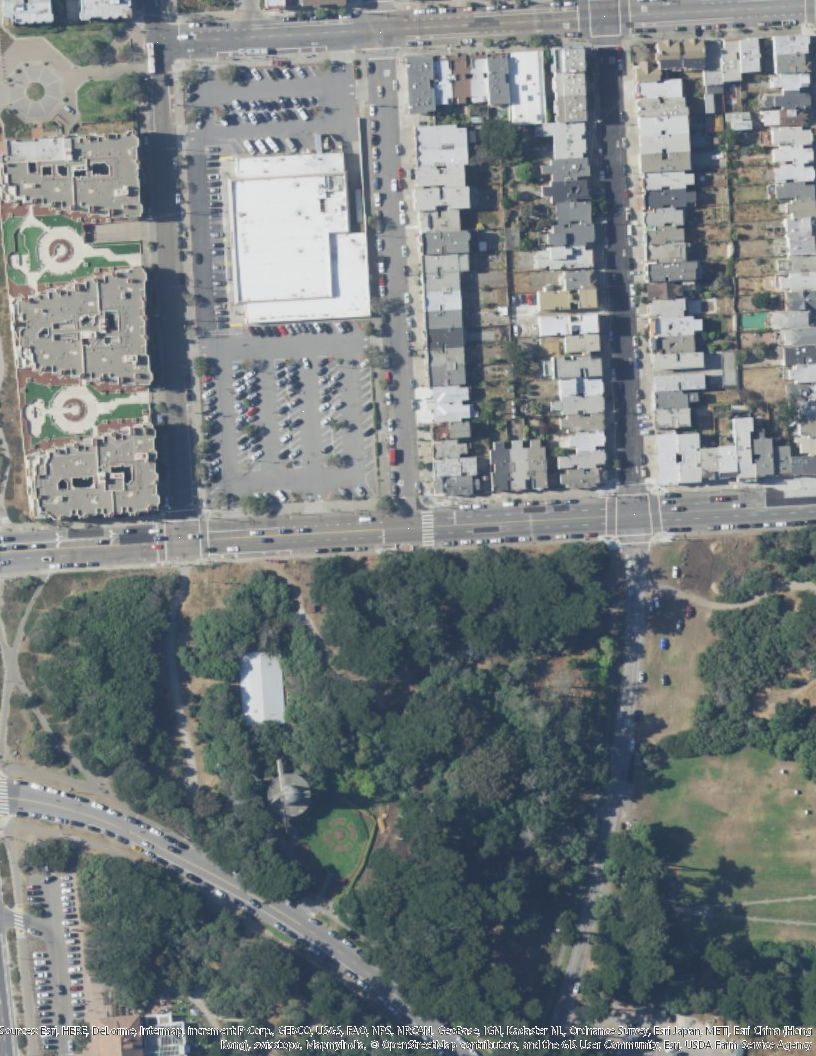zebracross: (419, 510, 436, 550), (1, 775, 9, 815)
